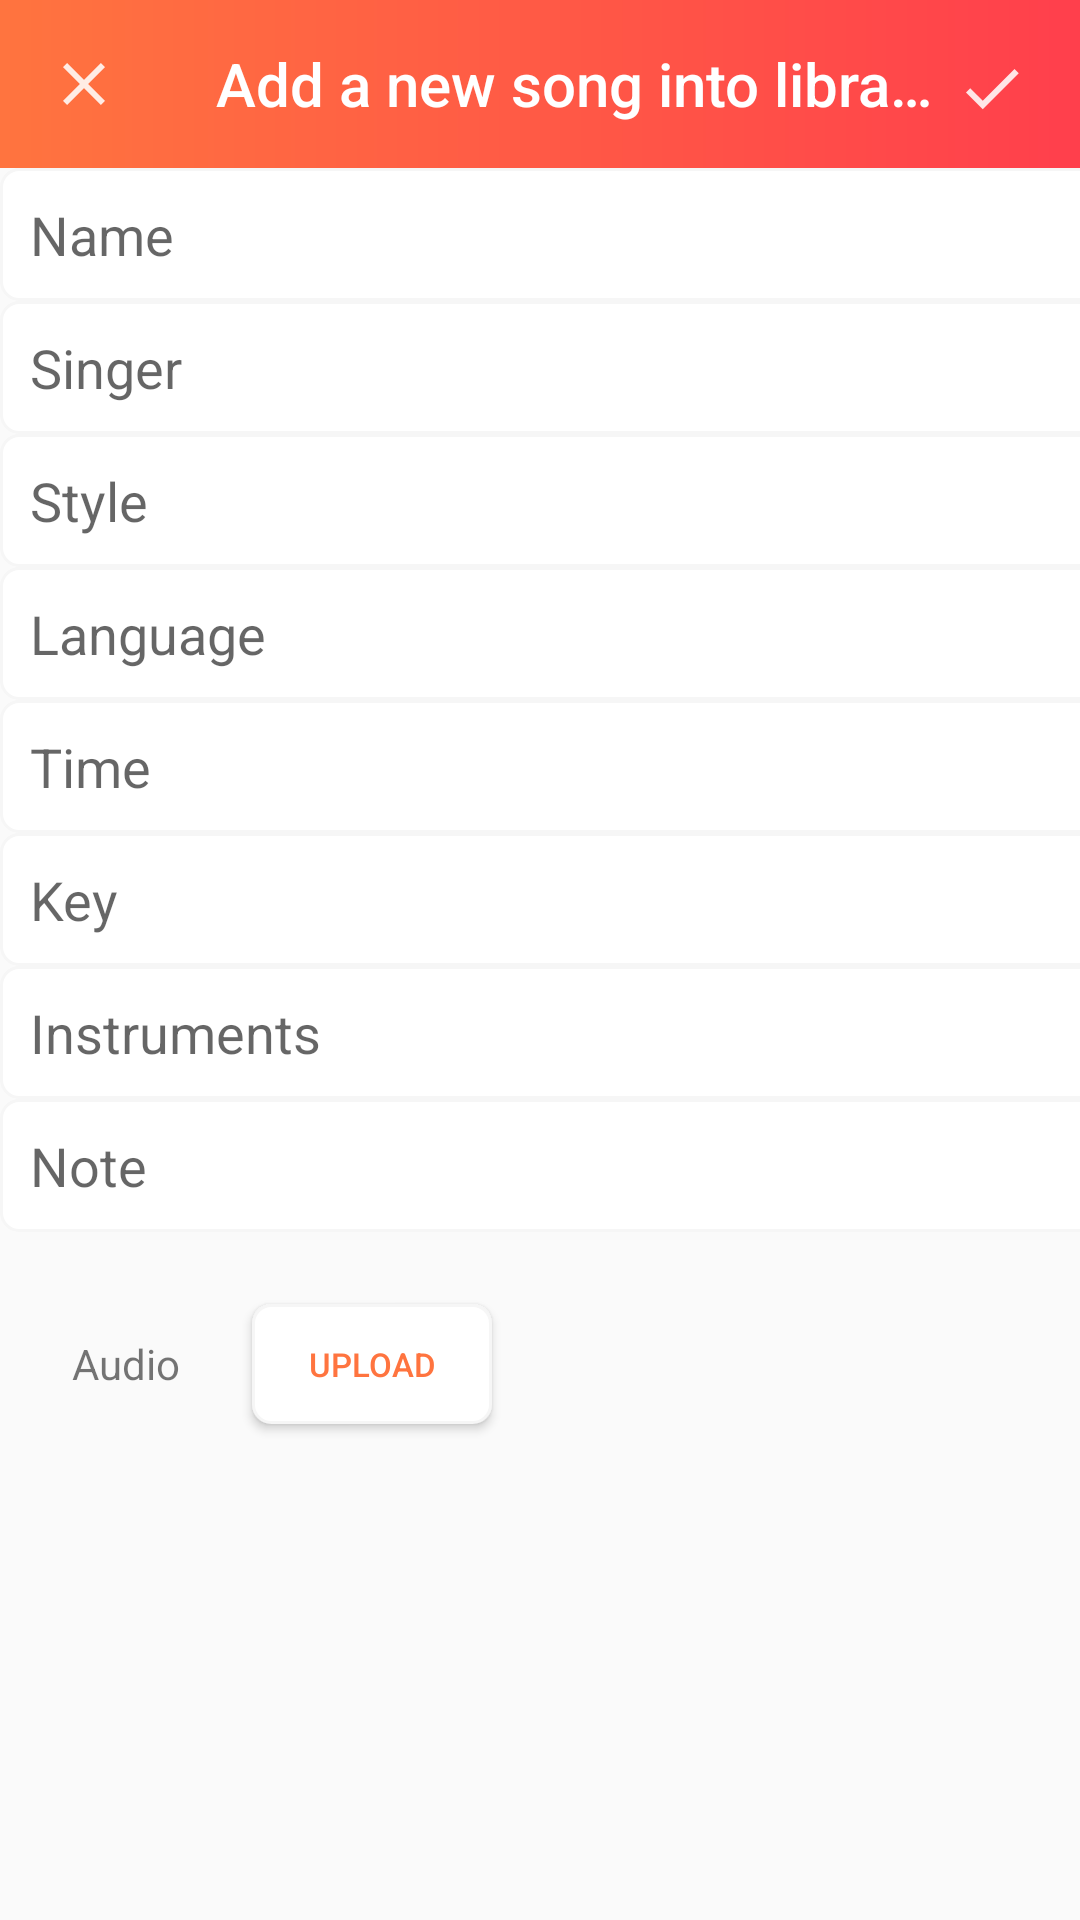

Icons on this 1080x1920 Android screen, each with its box as (x1, y1, x2, y2):
done: (966, 69, 1019, 109)
